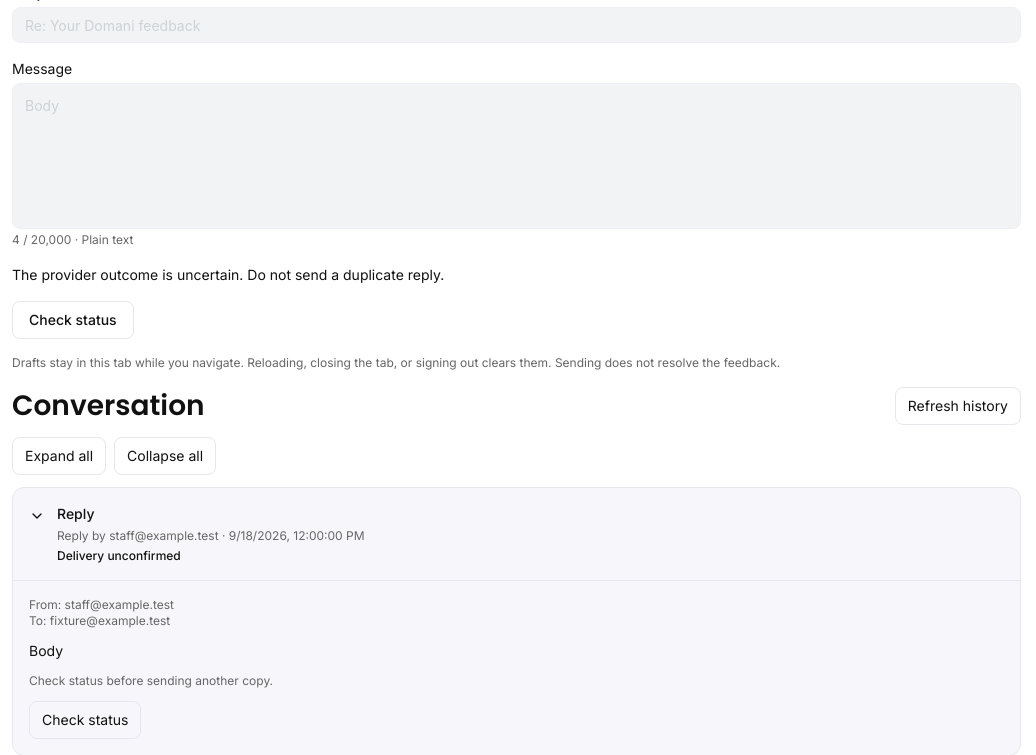
it: review regressions › syncs history reconciliation without overwriting a newer draft (false)
(page scrolled)
Click the button "Check status" below "Body". click: x=85, y=720
box: [29,701,141,739]
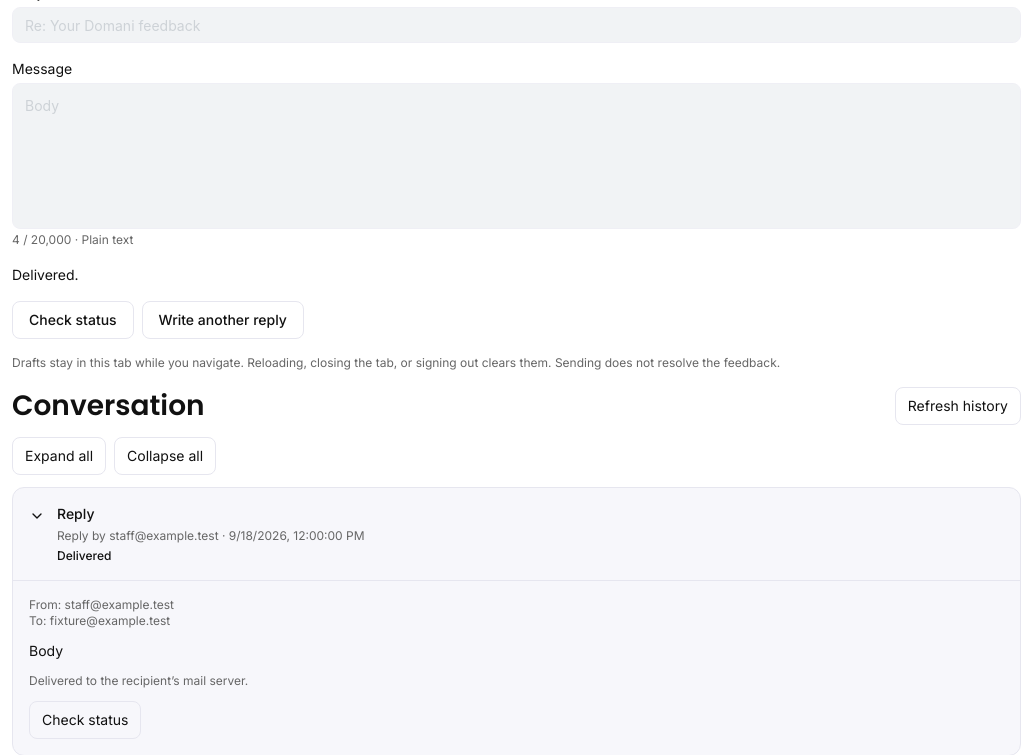
Expected: the element that starts with "Reply" shows "Delivered", [13,488,1020,580]
Expected: the text "Write another reply" is shown, [142,301,304,339]
Expected: the text "The provider outcome is uncertain" is gone
